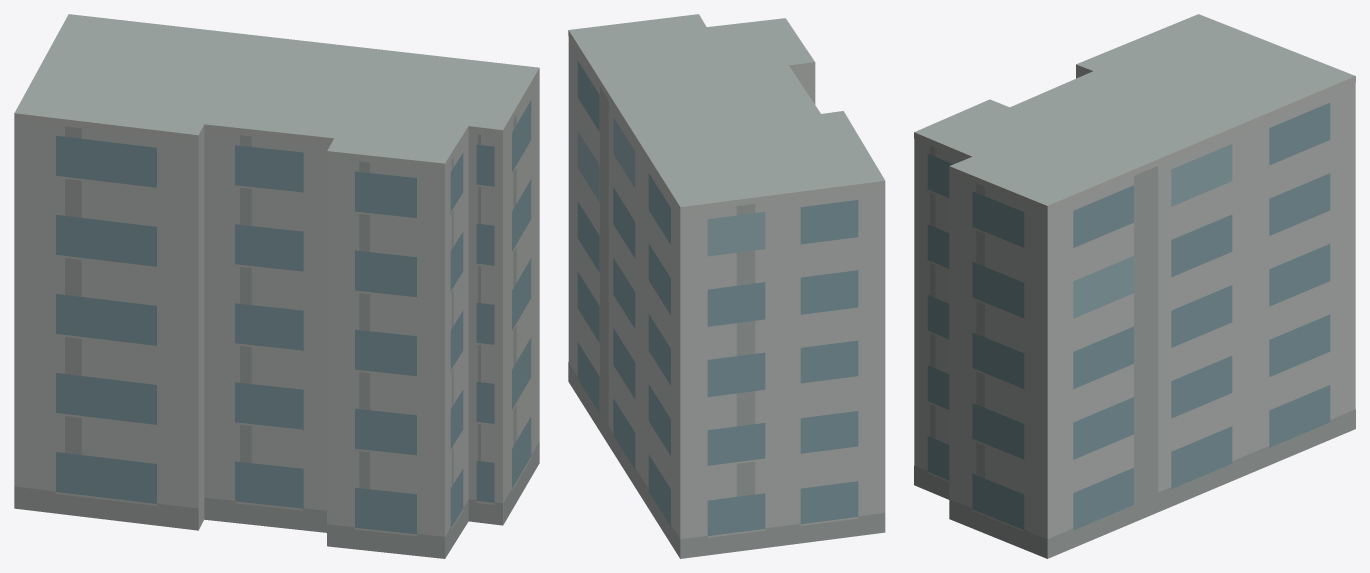
File: survey-upis-32672690.glb
3 renders of one model, left to right at view 1: azimuth 30°, elevation 25°; view 2: azimuth 150°, elevation 25°; view 3: azimuth 270°, elevation 25°, orthographic. The views are drawn at different scales.
Visible parts, largest first — view 1: survey-upis-32672690.tmp; view 2: survey-upis-32672690.tmp; view 3: survey-upis-32672690.tmp.
Part boxes in pixels (x1,y1,x2,y2): survey-upis-32672690.tmp: [14, 14, 539, 558]; survey-upis-32672690.tmp: [568, 14, 885, 558]; survey-upis-32672690.tmp: [914, 14, 1355, 558].
Bounding box in the file's own units: 15.87 × 13.6 × 15.43.
